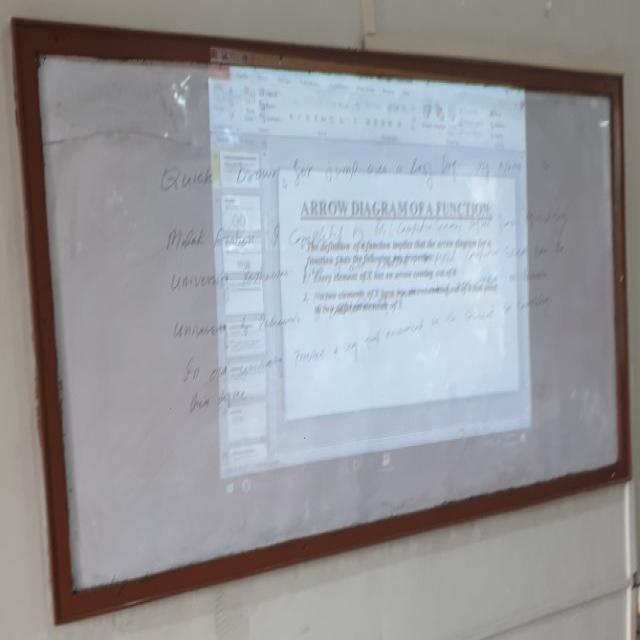Slide: (208, 47, 534, 506)
White-board: (27, 42, 627, 610)
